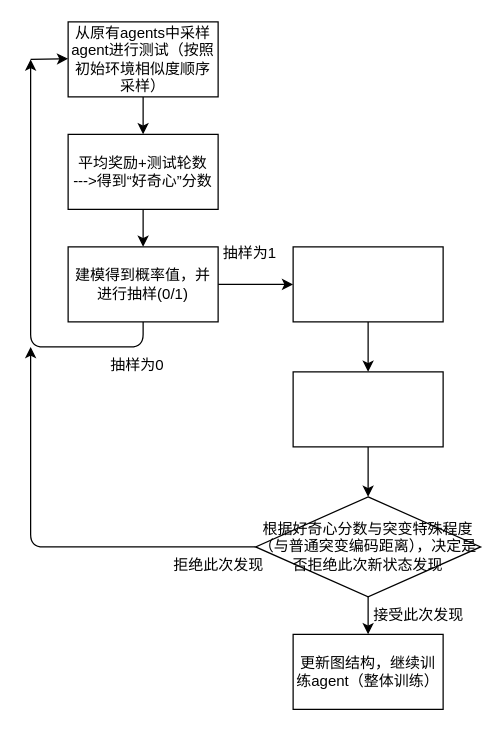
Image size: 503x731. Some labels were removed from this diagram. Each missing label, with the centre of its shape:
"直到到达已知状态，分析序列，寻找最特殊的突变" goes at point 367,409.
"进入发现新状态模式，新建一个agent1进行局部训练" goes at point 367,284.
